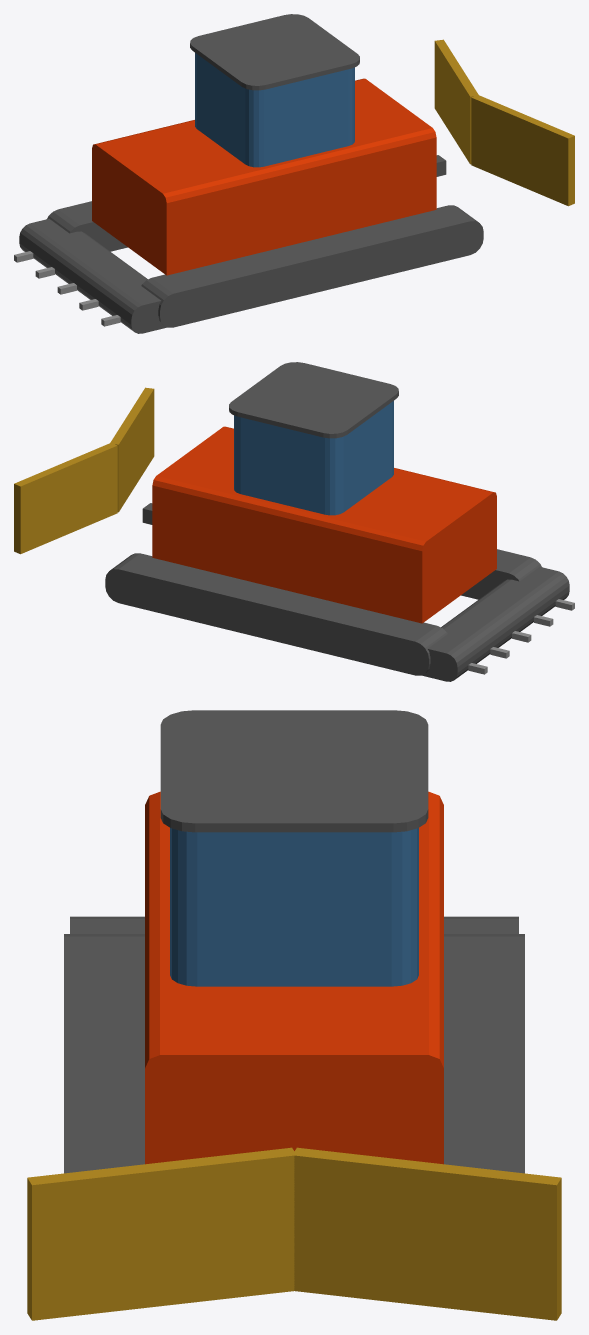
File: snowcat.obj
3 renders of one model, top to bottom at view 1: azimuth 30°, elevation 25°; view 2: azimuth 150°, elevation 25°; view 3: azimuth 270°, elevation 25°, orthographic. The views are drawn at different scales.
Size of the model in its own units: 8.34 by 3.48 by 4.29.
